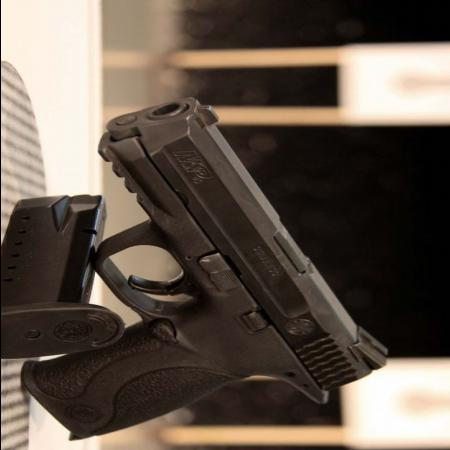Pistol: (17, 101, 417, 440)
